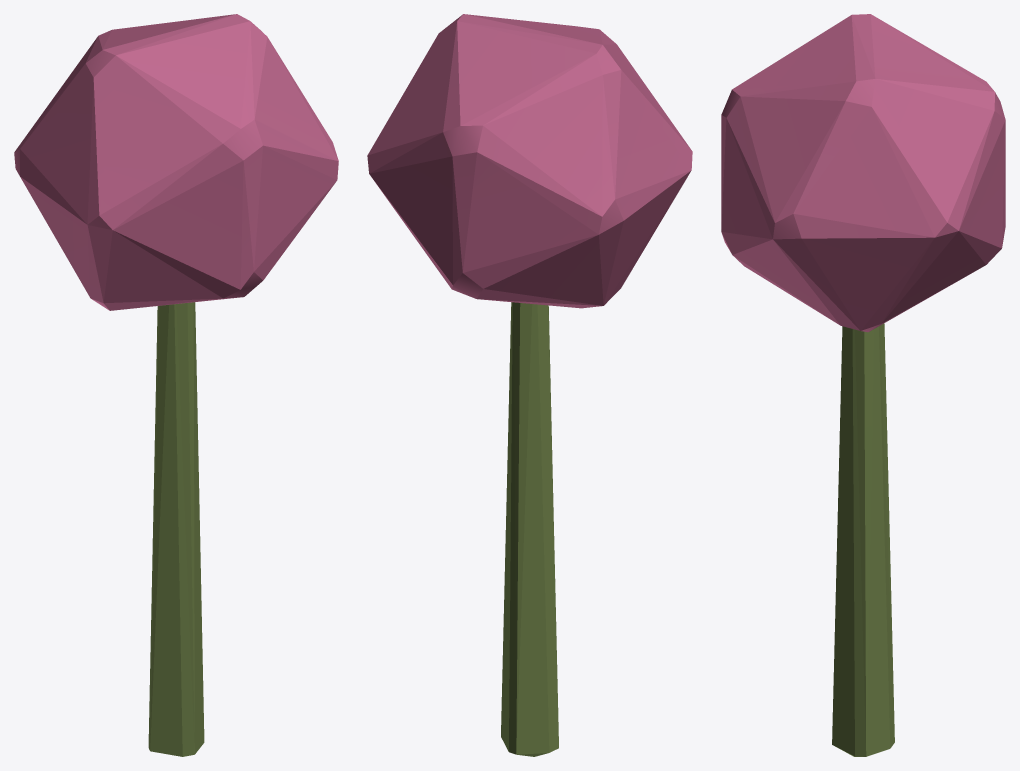
File: prop_flower_lod1.glb
3 views of the same model, side by side, from view 1: azimuth 30°, elevation 25°; view 2: azimuth 150°, elevation 25°; view 3: azimuth 270°, elevation 25° (orthographic).
Visible parts, largest first — view 1: prop_flower_lod1; view 2: prop_flower_lod1; view 3: prop_flower_lod1.
Part boxes in pixels (x1,y1,x2,y2): prop_flower_lod1: (14, 14, 338, 756); prop_flower_lod1: (367, 14, 692, 756); prop_flower_lod1: (721, 14, 1005, 756).
Size of the model in its own units: 0.2164 by 0.5927 by 0.2162.
